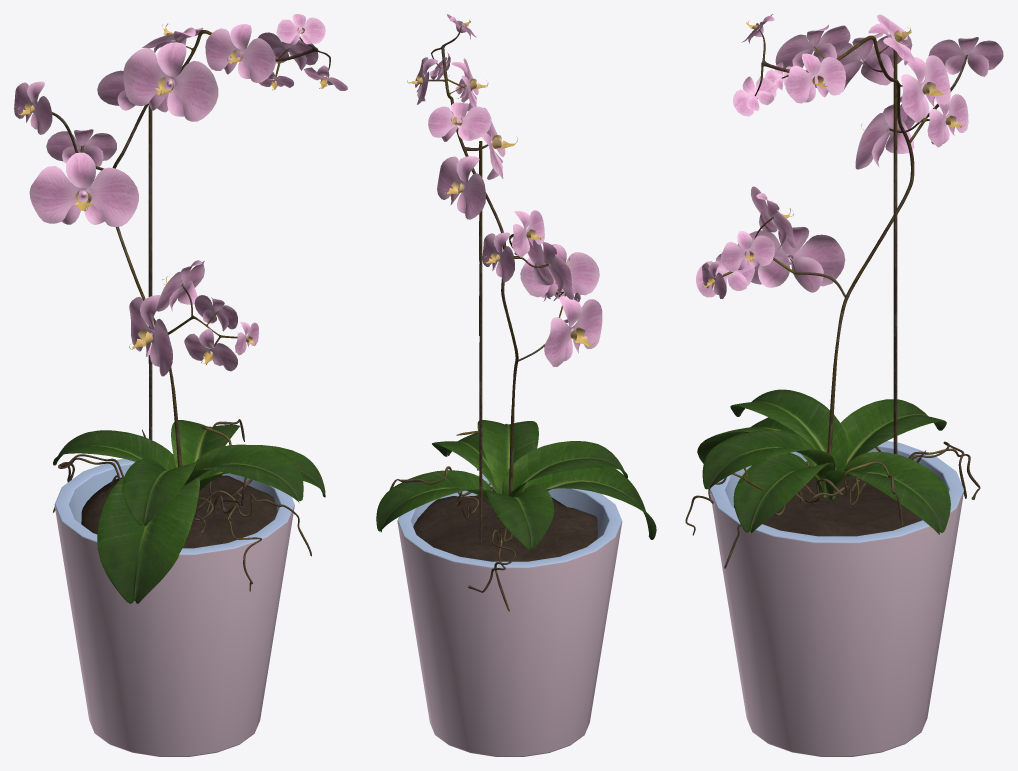
Rendered from FloversInVase.fbx.
3 views of the same model, side by side, from view 1: azimuth 30°, elevation 25°; view 2: azimuth 150°, elevation 25°; view 3: azimuth 270°, elevation 25° (orthographic). The views are drawn at different scales.
Parts seen in each view (by area): view 1: Phalaenopsis-Flower, Flower-Vase; view 2: Phalaenopsis-Flower, Flower-Vase; view 3: Phalaenopsis-Flower, Flower-Vase.
Boxes of the visible parts, box(x1,y1,x2,y2) form: Phalaenopsis-Flower: box(14, 14, 347, 603); Flower-Vase: box(54, 459, 294, 756); Phalaenopsis-Flower: box(376, 14, 656, 611); Flower-Vase: box(397, 475, 622, 756); Phalaenopsis-Flower: box(685, 14, 1003, 568); Flower-Vase: box(710, 441, 963, 756).
Bounding box in the file's own units: 184 × 519 × 200.
